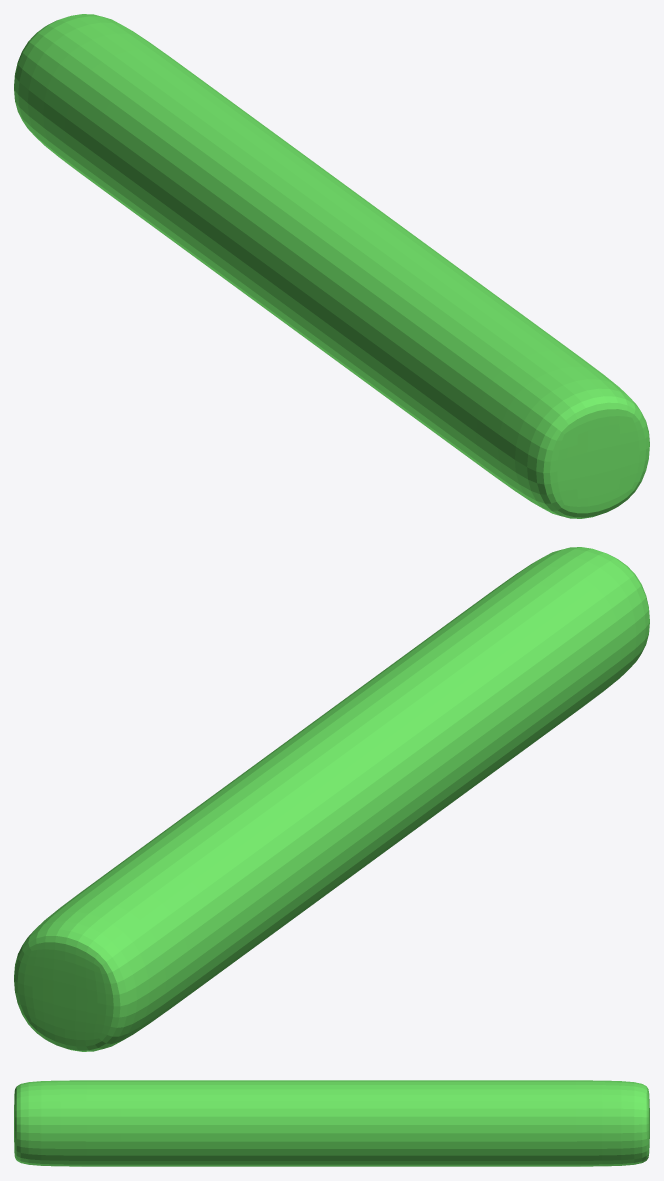
3 views of the same model, one above another, from view 1: azimuth 30°, elevation 25°; view 2: azimuth 150°, elevation 25°; view 3: azimuth 270°, elevation 25° (orthographic). The views are drawn at different scales.
Parts seen in each view (by area): view 1: Cube; view 2: Cube; view 3: Cube.
Part boxes in pixels (bbox=[...]): Cube: bbox=[14, 14, 649, 518]; Cube: bbox=[14, 547, 649, 1051]; Cube: bbox=[14, 1080, 649, 1166].
Bounding box in the file's own units: 1.83 × 1.83 × 13.68.
